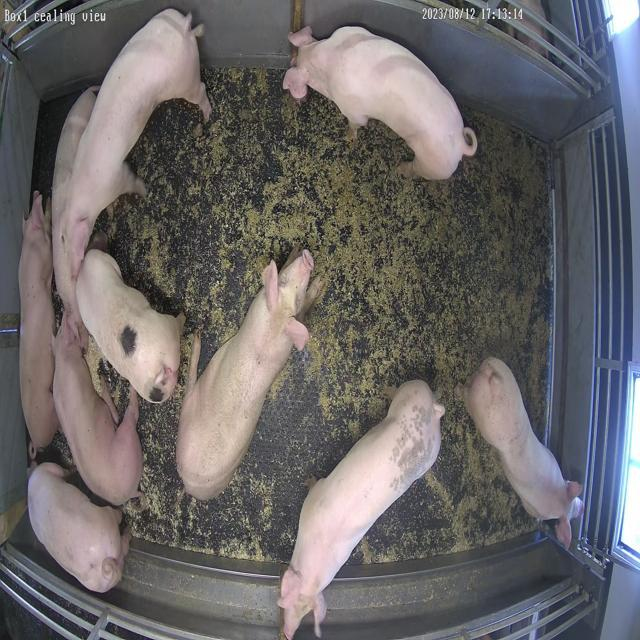Dirt: (110, 70, 552, 563)
Pig: (56, 9, 211, 314), (279, 382, 445, 640), (176, 250, 324, 502), (286, 26, 478, 180), (465, 358, 582, 548), (53, 314, 143, 506), (76, 249, 185, 403), (51, 86, 98, 308)
